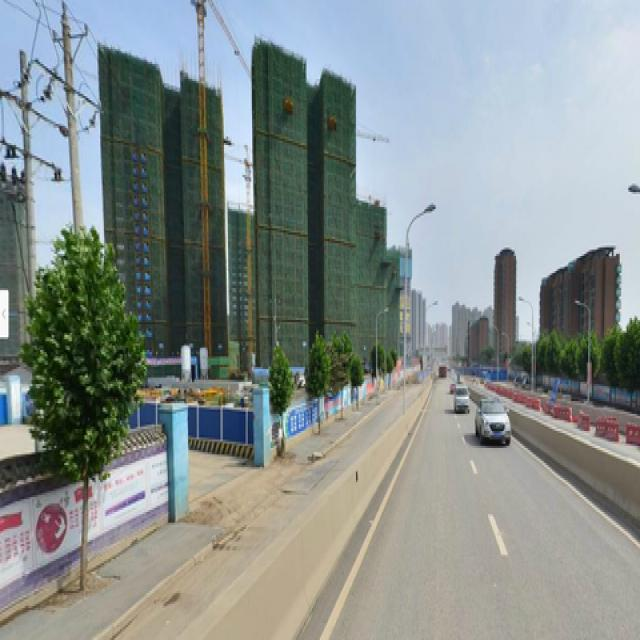meta: (36, 237, 136, 576)
